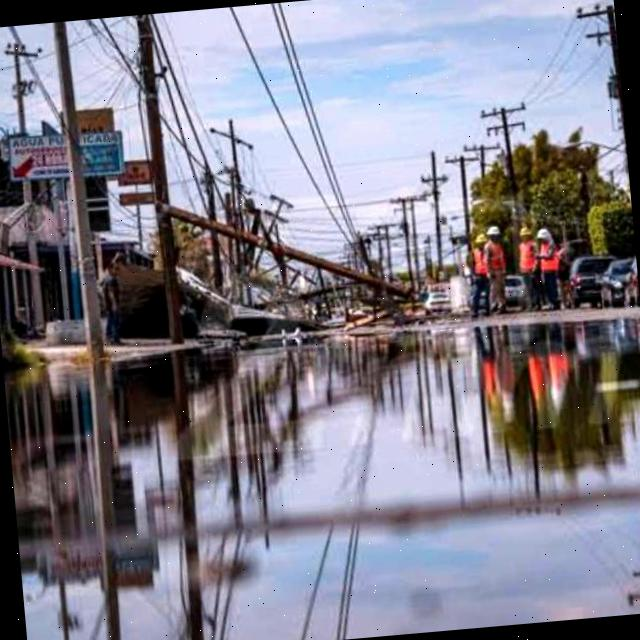Broken Pole: (153, 196, 417, 302)
